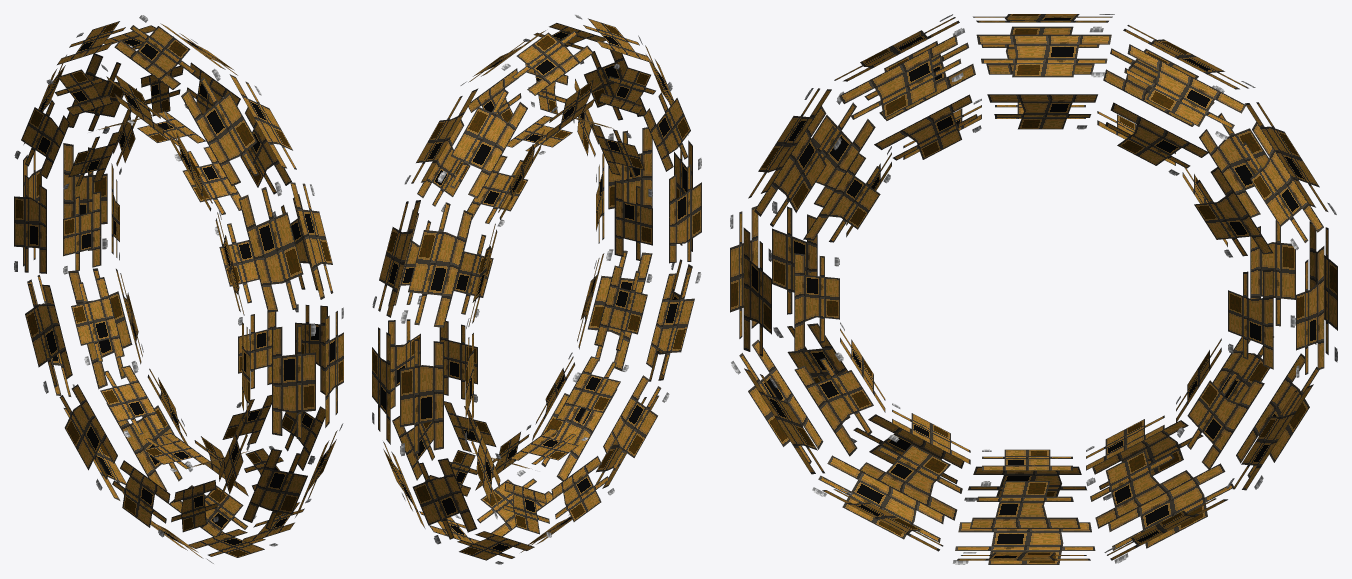
Rendered from spinning_wheel.obj.
3 renders of one model, left to right at view 1: azimuth 30°, elevation 25°; view 2: azimuth 150°, elevation 25°; view 3: azimuth 270°, elevation 25°, orthographic. The views are drawn at different scales.
Visible parts, largest first — view 1: Torus; view 2: Torus; view 3: Torus.
Boxes of the visible parts, x1,y1,x2,y2 form: Torus: (14, 15, 343, 563); Torus: (372, 14, 701, 564); Torus: (730, 14, 1337, 564).
Size of the model in its own units: 0.1862 by 0.9455 by 0.9455.
